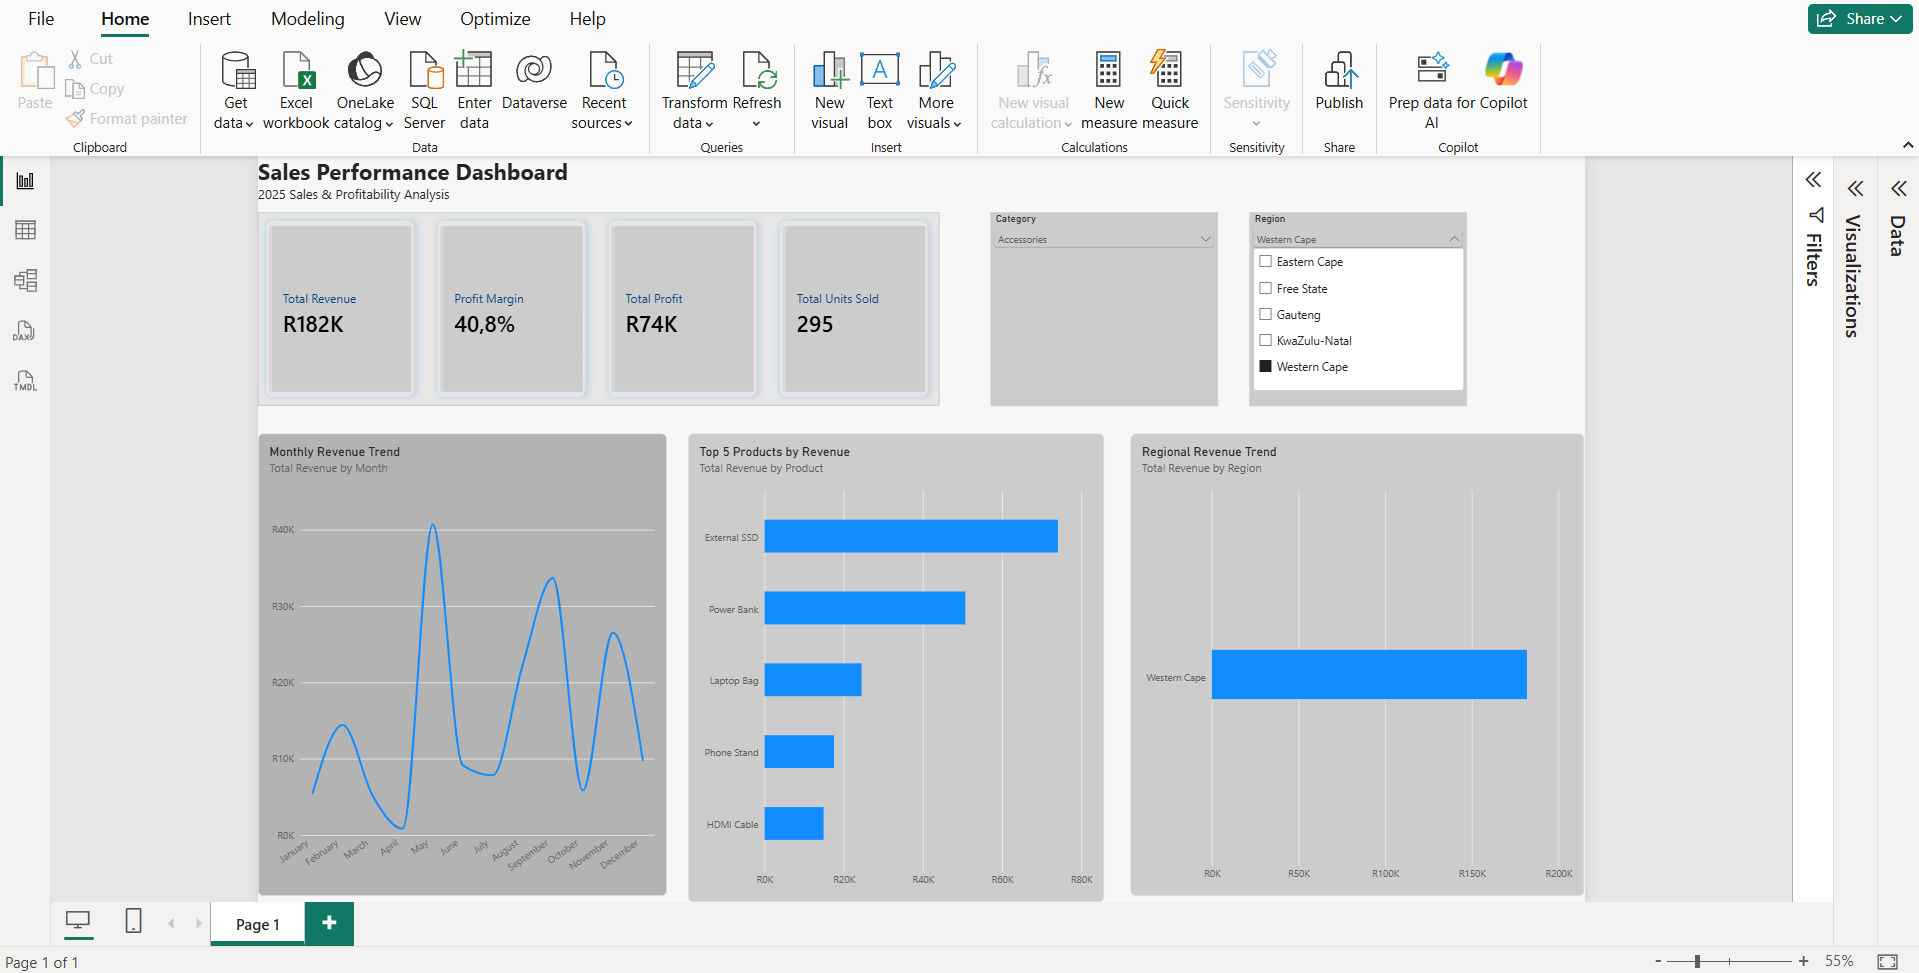

What the dashboard file says about the page in this screenshot:
{"tool":"powerbi","page":{"name":"Page 1","canvas":[1920,1080],"ordinal":0},"visuals":[{"type":"cardVisual","fields":{"Data":["Sales_Data.Total Revenue","Sales_Data.Profit Margin","Sales_Data.Total Profit","Sales_Data.Total Units Sold"]},"box":[0,81.2,988.1,280.5],"z":0},{"type":"lineChart","title":"Monthly Revenue Trend","fields":{"Category":["Sales_Data.Order Date.Variation.Date Hierarchy.Year","Sales_Data.Order Date.Variation.Date Hierarchy.Quarter","Sales_Data.Order Date.Variation.Date Hierarchy.Month","Sales_Data.Order Date.Variation.Date Hierarchy.Day"],"Y":["Sales_Data.Total Revenue"]},"box":[0,401.7,591.8,669.6],"z":1},{"type":"clusteredBarChart","title":"Regional Revenue Trend","fields":{"Category":["Sales_Data.Region"],"Y":["Sales_Data.Total Revenue"]},"box":[1263.1,401.7,656.9,669.6],"z":2},{"type":"clusteredBarChart","title":"Top 5 Products by Revenue","fields":{"Category":["Sales_Data.Product"],"Y":["Sales_Data.Total Revenue"]},"box":[622.5,401.7,602.6,678.6],"z":3},{"type":"slicer","fields":{"Values":["Sales_Data.Region"]},"box":[1435.1,81.4,314.9,280.5],"z":4},{"type":"slicer","fields":{"Values":["Sales_Data.Category"]},"box":[1060.5,81.4,329.4,280.5],"z":5},{"type":"textbox","box":[0,0,470.5,161.1],"z":6}]}

Visuals, with their boxes on the page's 1920x1080 design canvas (x1, y1, x2, y2). These are canvas units, not pixel positions in the 1919x973 screenshot, which may show the page scaled, cropped or inside an application window:
cardVisual - Sales_Data.Total Revenue x Sales_Data.Profit Margin: (x1=0, y1=81, x2=988, y2=362)
"Monthly Revenue Trend" lineChart: (x1=0, y1=402, x2=592, y2=1071)
"Regional Revenue Trend" clusteredBarChart: (x1=1263, y1=402, x2=1920, y2=1071)
"Top 5 Products by Revenue" clusteredBarChart: (x1=622, y1=402, x2=1225, y2=1080)
slicer - Sales_Data.Region: (x1=1435, y1=81, x2=1750, y2=362)
slicer - Sales_Data.Category: (x1=1060, y1=81, x2=1390, y2=362)
textbox: (x1=0, y1=0, x2=470, y2=161)
